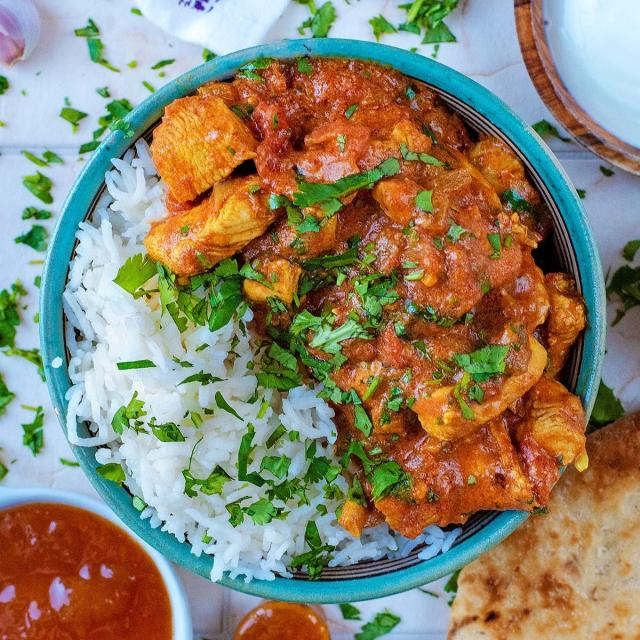chicken: (249, 70, 562, 535)
rice: (59, 154, 414, 574)
